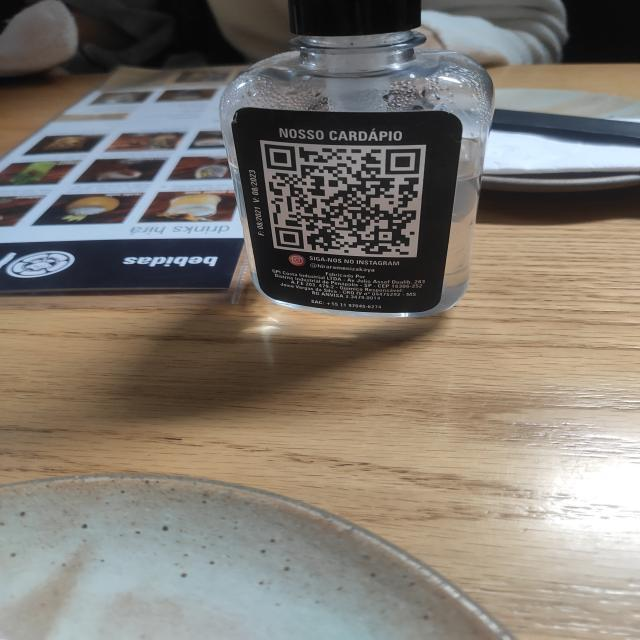qr-code: (264, 144, 422, 255)
